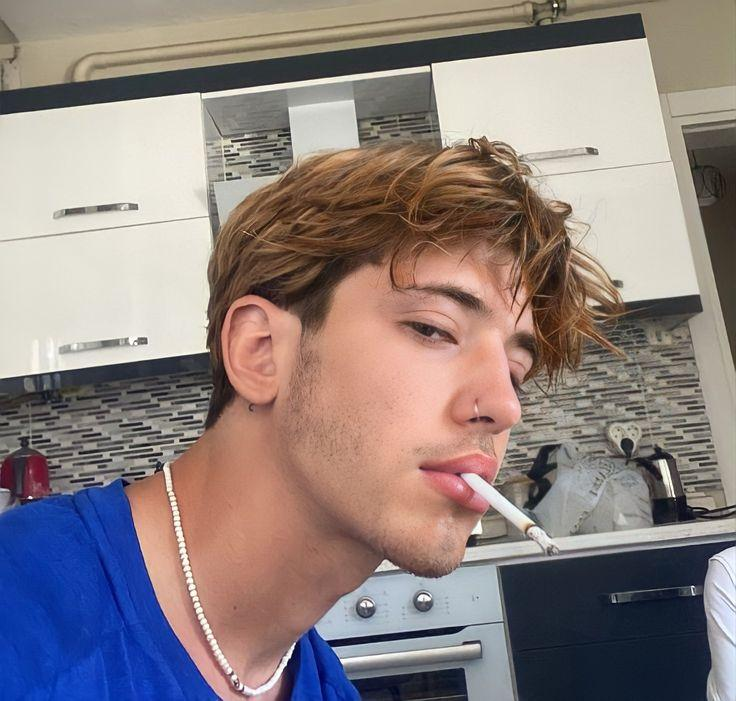cigarette: (461, 472, 560, 557)
